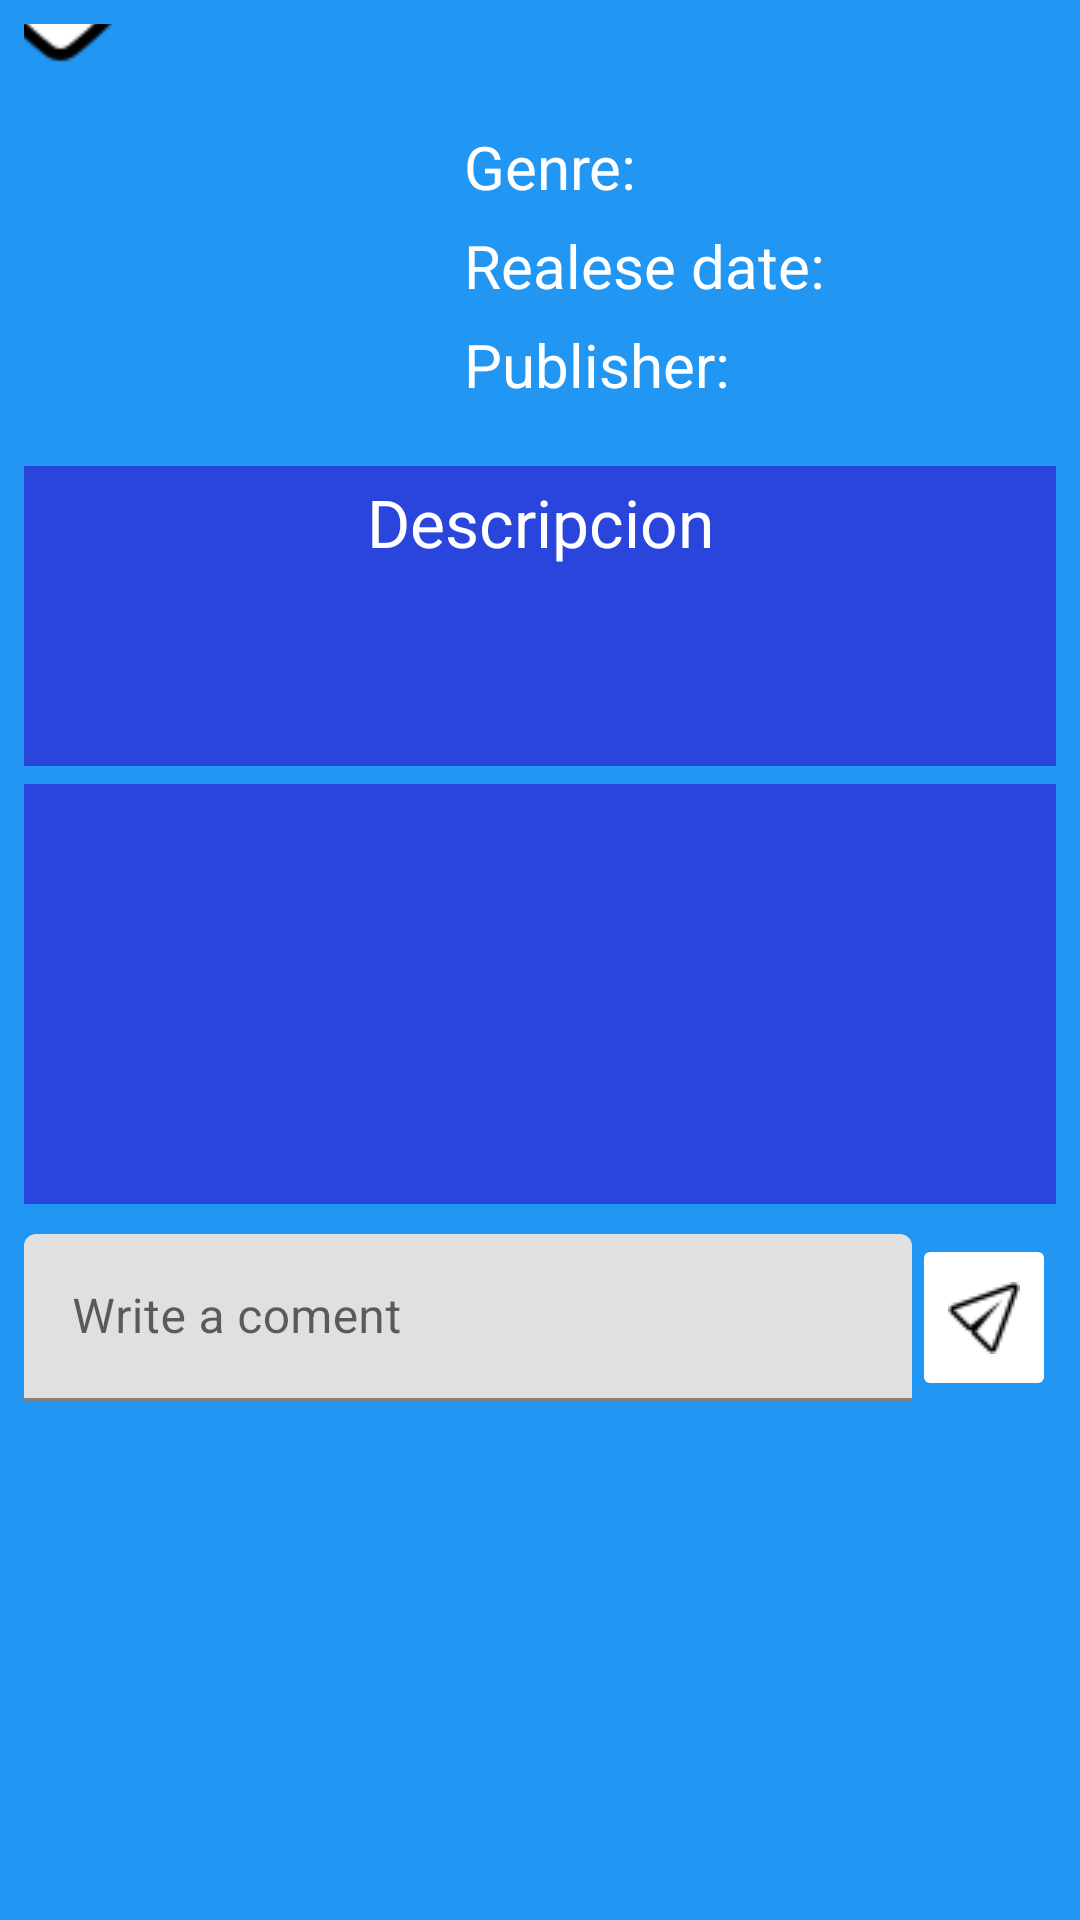

Where icons sit on this 1080 × 1920 app screen, as detection(x1, y1, x2, y2):
envia: detection(924, 1252, 1044, 1383)
